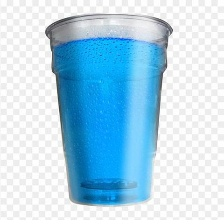glass: (39, 7, 175, 214)
